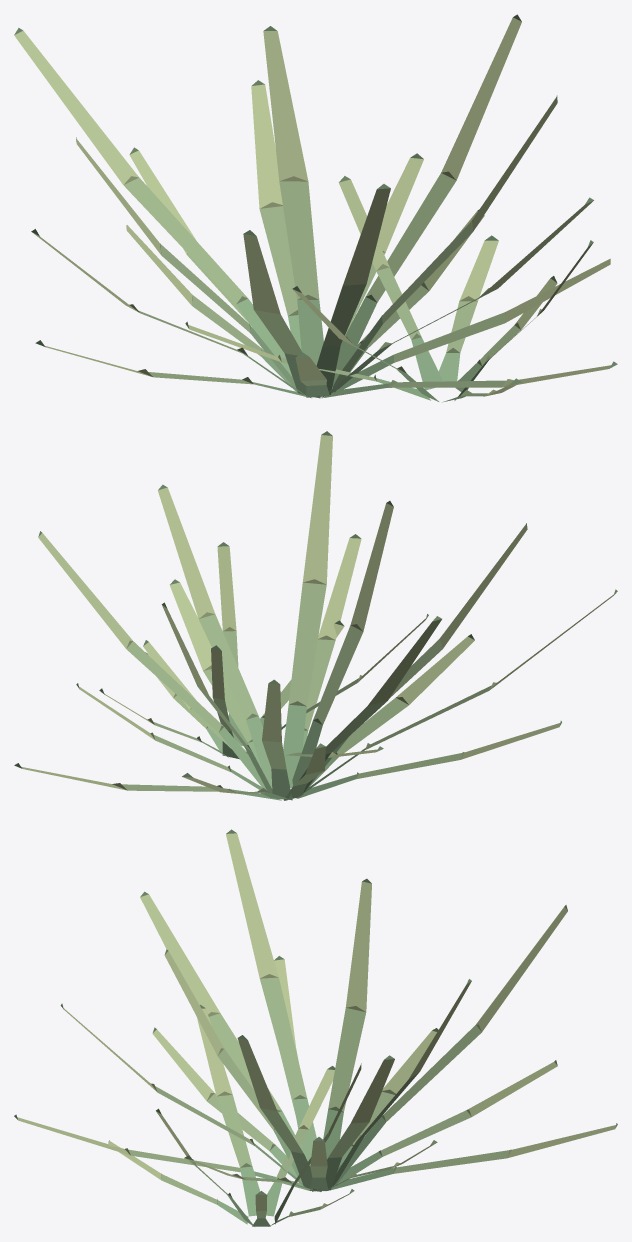
Rendered from marsh_grass_tuft.glb.
The picture shows the model from 3 angles, top to bottom: view 1: azimuth 30°, elevation 25°; view 2: azimuth 150°, elevation 25°; view 3: azimuth 270°, elevation 25°; orthographic projection. The views are drawn at different scales.
Visible parts, largest first — view 1: Marsh_grass_blades, Pale_reeds_blades; view 2: Marsh_grass_blades, Pale_reeds_blades; view 3: Marsh_grass_blades, Pale_reeds_blades.
Boxes of the visible parts, left/top/right/bottom form: Marsh_grass_blades: left=14, top=14, right=617, bottom=398; Pale_reeds_blades: left=185, top=176, right=593, bottom=402; Marsh_grass_blades: left=14, top=431, right=617, bottom=800; Pale_reeds_blades: left=99, top=542, right=428, bottom=759; Marsh_grass_blades: left=14, top=829, right=617, bottom=1191; Pale_reeds_blades: left=108, top=1005, right=361, bottom=1226.
Bounding box in the file's own units: 1.4 × 0.648 × 1.57.
